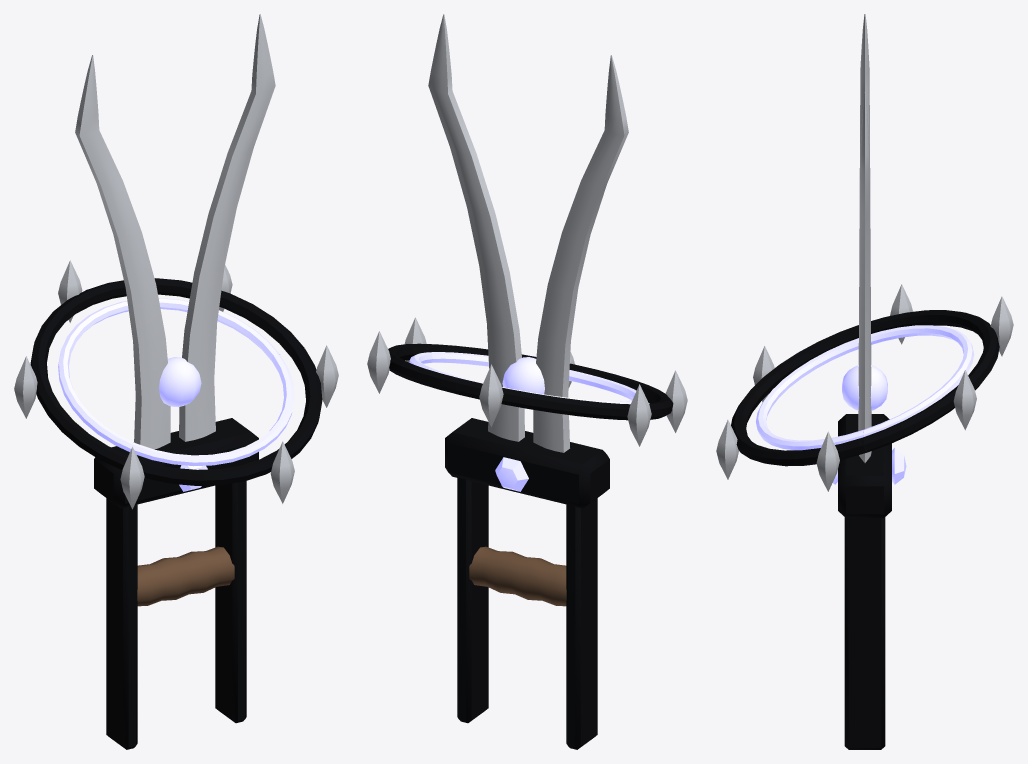
The model's file is esc_w_shadowblade_claw_3.glb.
3 views of the same model, side by side, from view 1: azimuth 30°, elevation 25°; view 2: azimuth 150°, elevation 25°; view 3: azimuth 270°, elevation 25° (orthographic). The views are drawn at different scales.
Parts seen in each view (by area): view 1: esc_w_shadowblade_claw_3; view 2: esc_w_shadowblade_claw_3; view 3: esc_w_shadowblade_claw_3.
Boxes of the visible parts, x1=… form: esc_w_shadowblade_claw_3: x1=14, y1=14, x2=338, y2=749; esc_w_shadowblade_claw_3: x1=367, y1=14, x2=687, y2=749; esc_w_shadowblade_claw_3: x1=716, y1=14, x2=1013, y2=749.
Size of the model in its own units: 0.2338 by 0.5479 by 0.2207.
